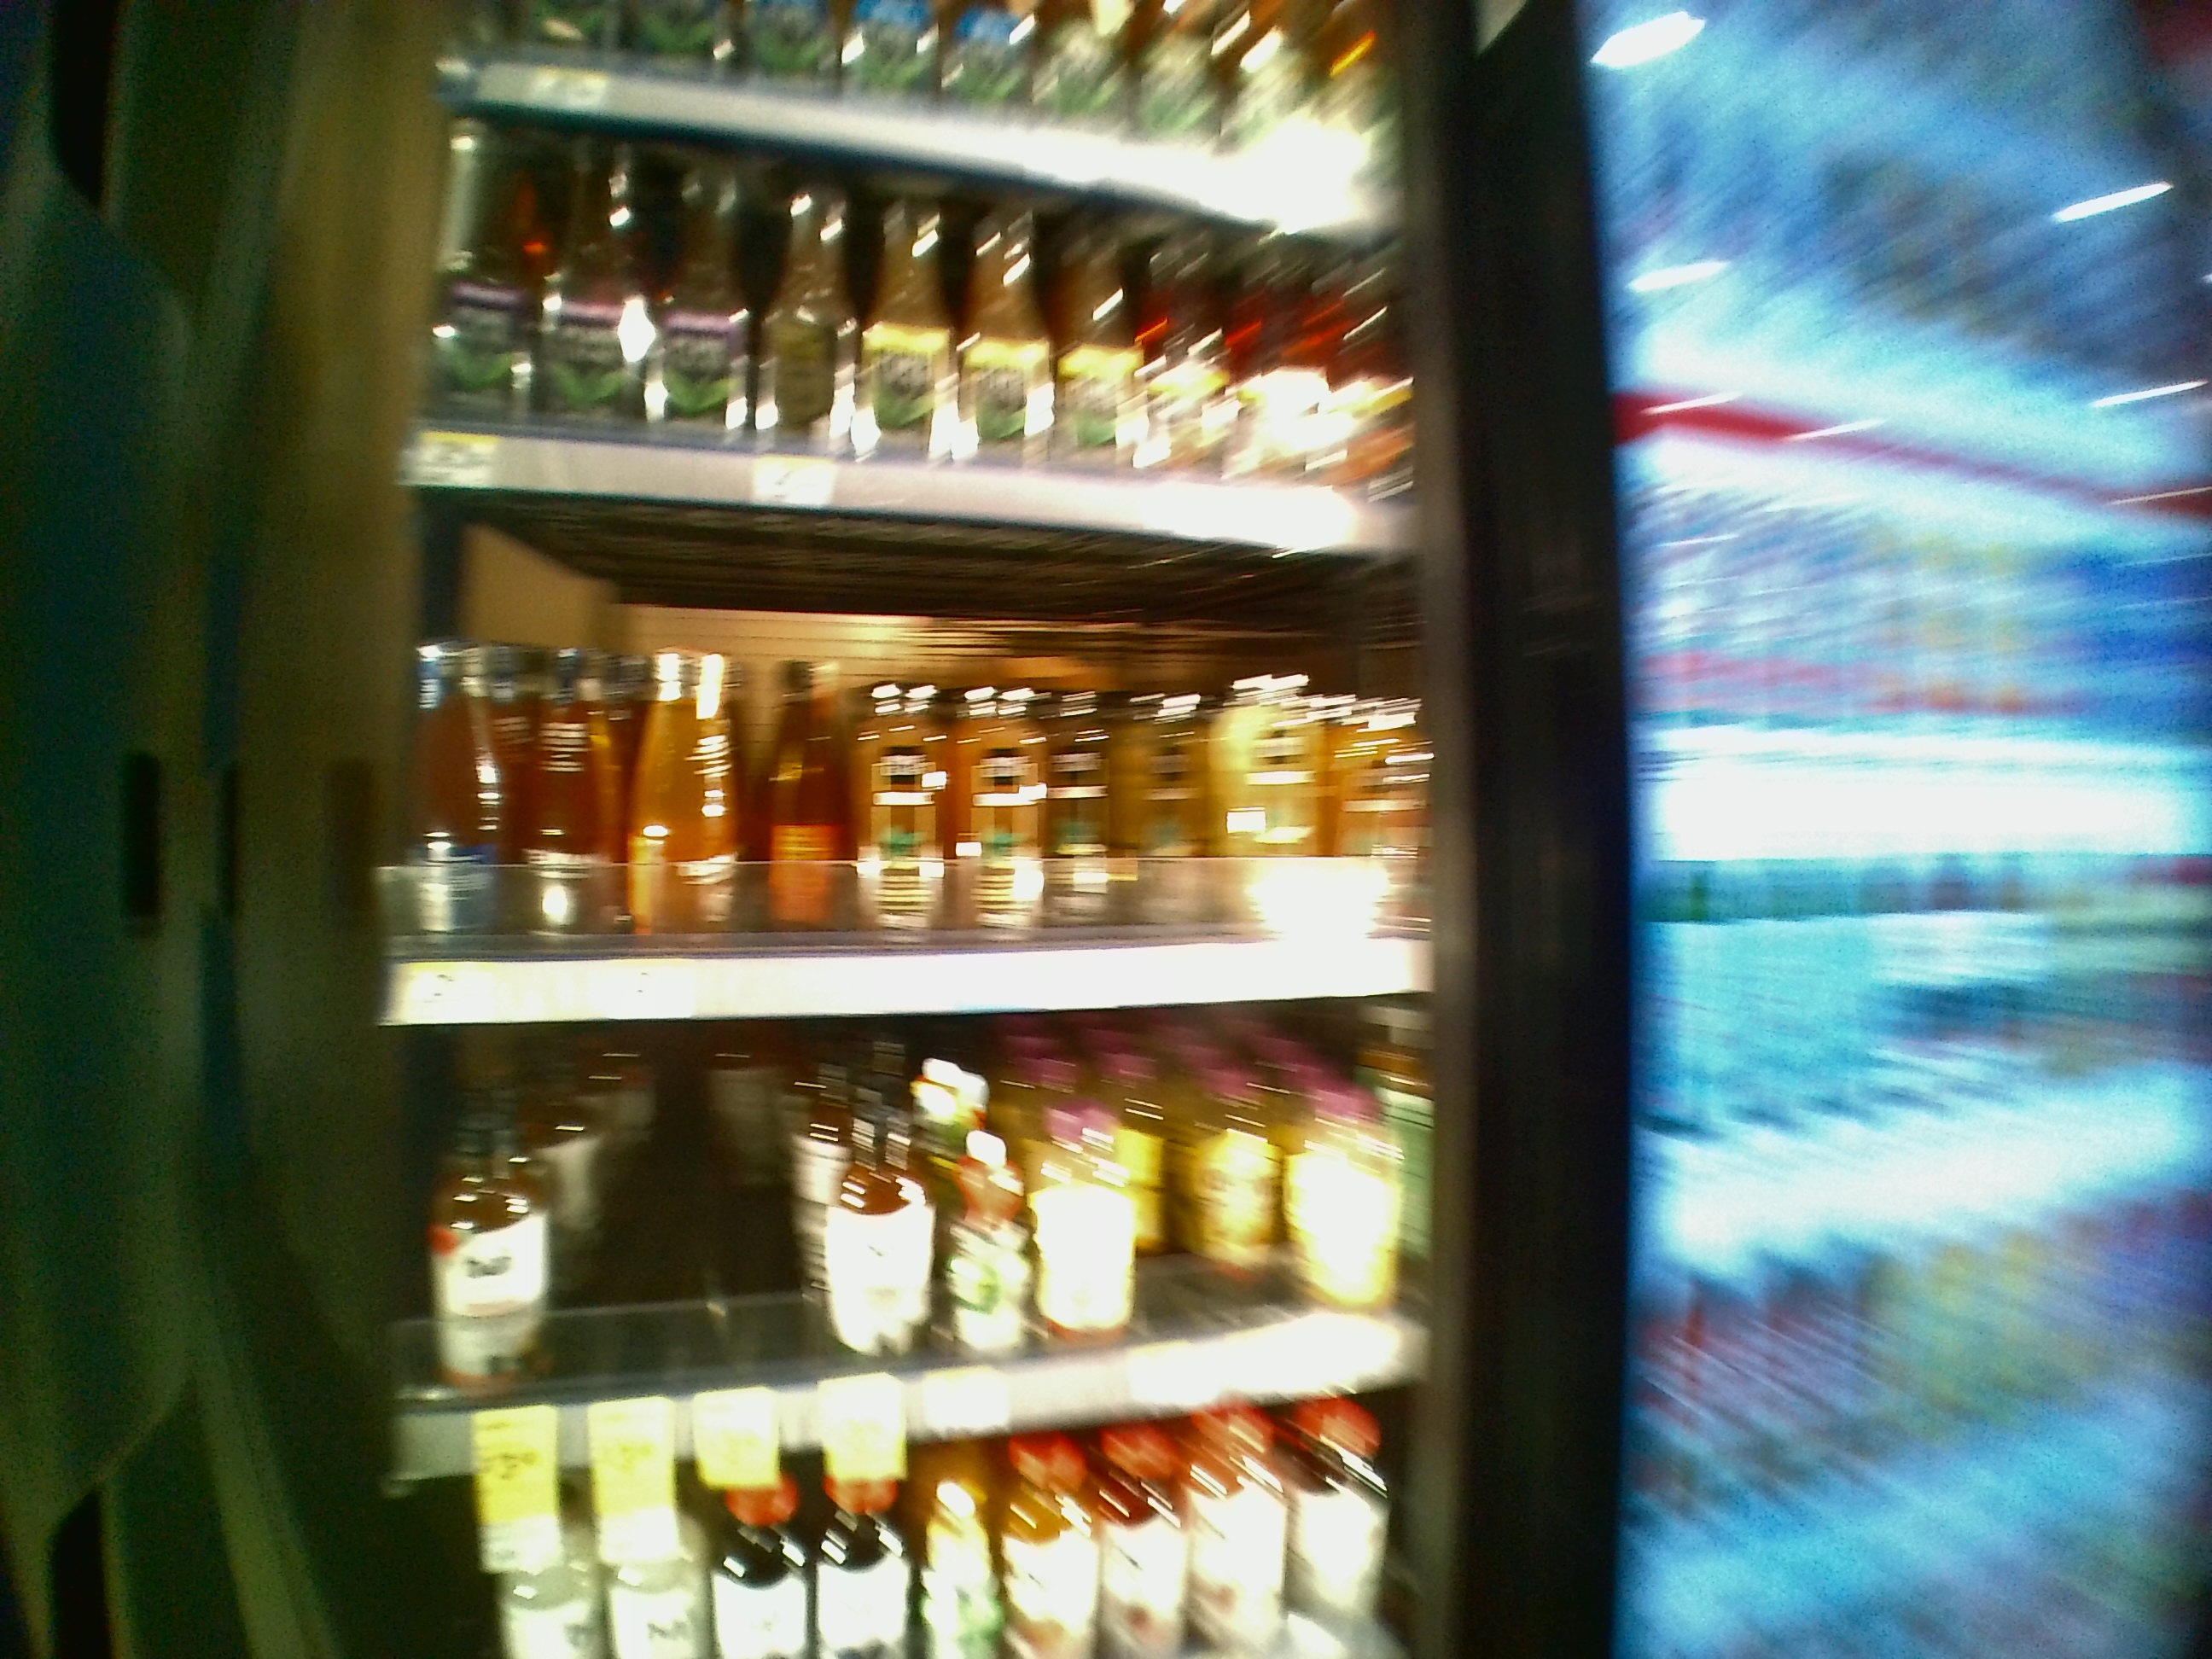shelf: (374, 505, 1435, 1019), (381, 1037, 1440, 1480), (387, 108, 1433, 486)
